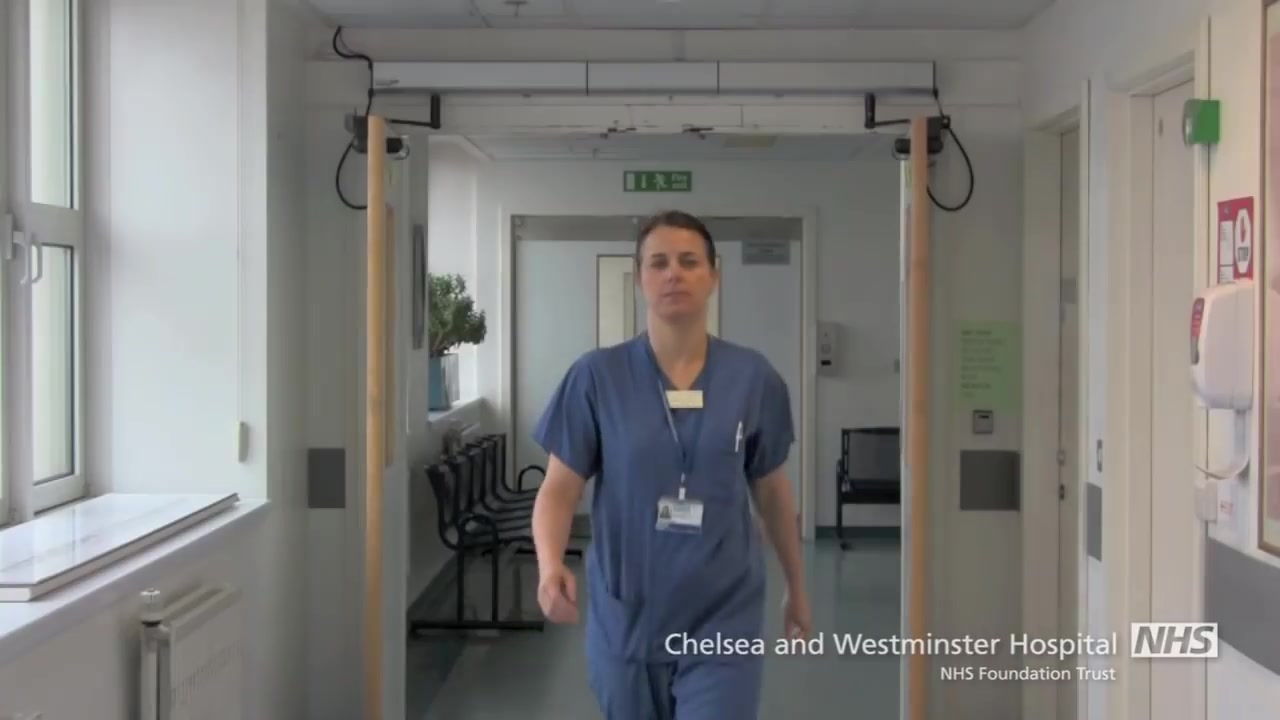chair: (405, 431, 584, 637), (835, 420, 901, 552)
dispenser: (1187, 278, 1258, 481), (814, 321, 837, 378)
handle: (1, 212, 32, 285), (30, 234, 44, 285)
staff: (530, 209, 811, 720)
